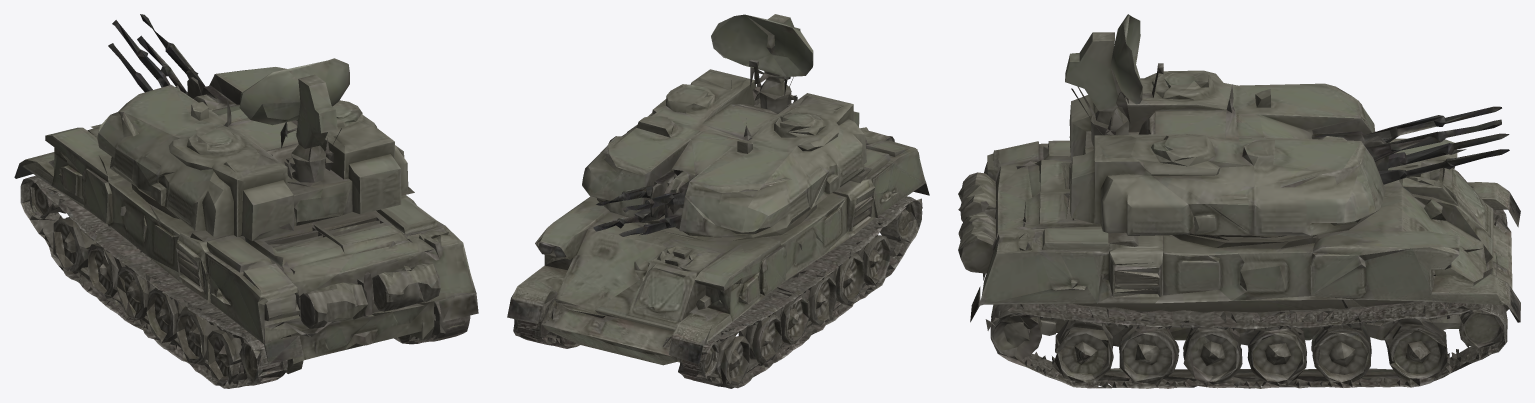
Rendered from zsu_23_4_shilka_14k.glb.
3 renders of one model, left to right at view 1: azimuth 30°, elevation 25°; view 2: azimuth 150°, elevation 25°; view 3: azimuth 270°, elevation 25°, orthographic. The views are drawn at different scales.
Parts seen in each view (by area): view 1: output_unwrapped; view 2: output_unwrapped; view 3: output_unwrapped.
Boxes of the visible parts, box(x1,y1,x2,y2) form: output_unwrapped: box(14, 14, 478, 388); output_unwrapped: box(507, 14, 929, 388); output_unwrapped: box(958, 14, 1520, 388).
Size of the model in its own units: 3.22 by 3.88 by 6.5.
Materials: 1 (1 with a texture image).
